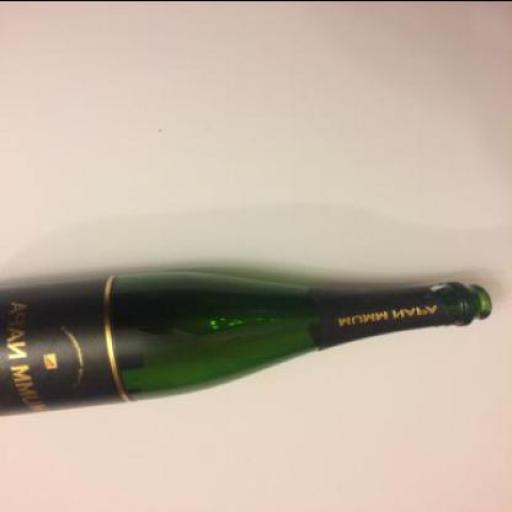glass: (1, 269, 494, 417)
